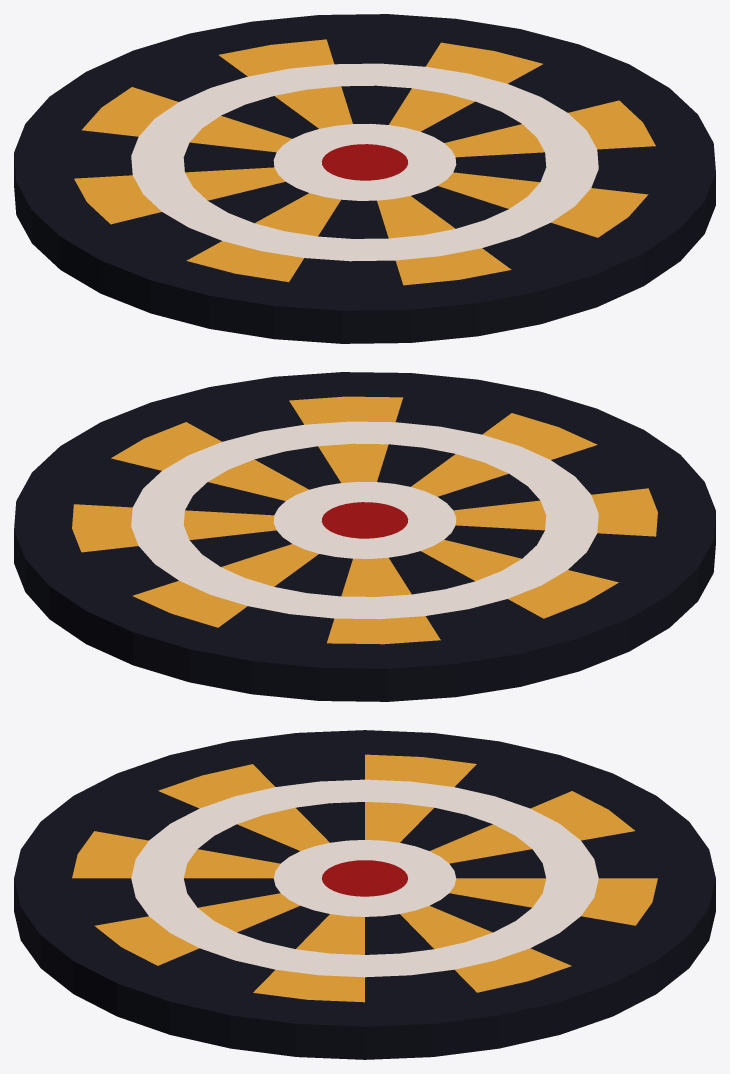
Rendered from flechette.fbx.
3 views of the same model, one above another, from view 1: azimuth 30°, elevation 25°; view 2: azimuth 150°, elevation 25°; view 3: azimuth 270°, elevation 25° (orthographic).
Visible parts, largest first — view 1: cible; view 2: cible; view 3: cible.
Part boxes in pixels (box(x1,y1,x2,y2)): cible: box(14, 14, 715, 343); cible: box(14, 372, 715, 701); cible: box(14, 730, 715, 1059).
Size of the model in its own units: 600 by 31.25 by 600.
